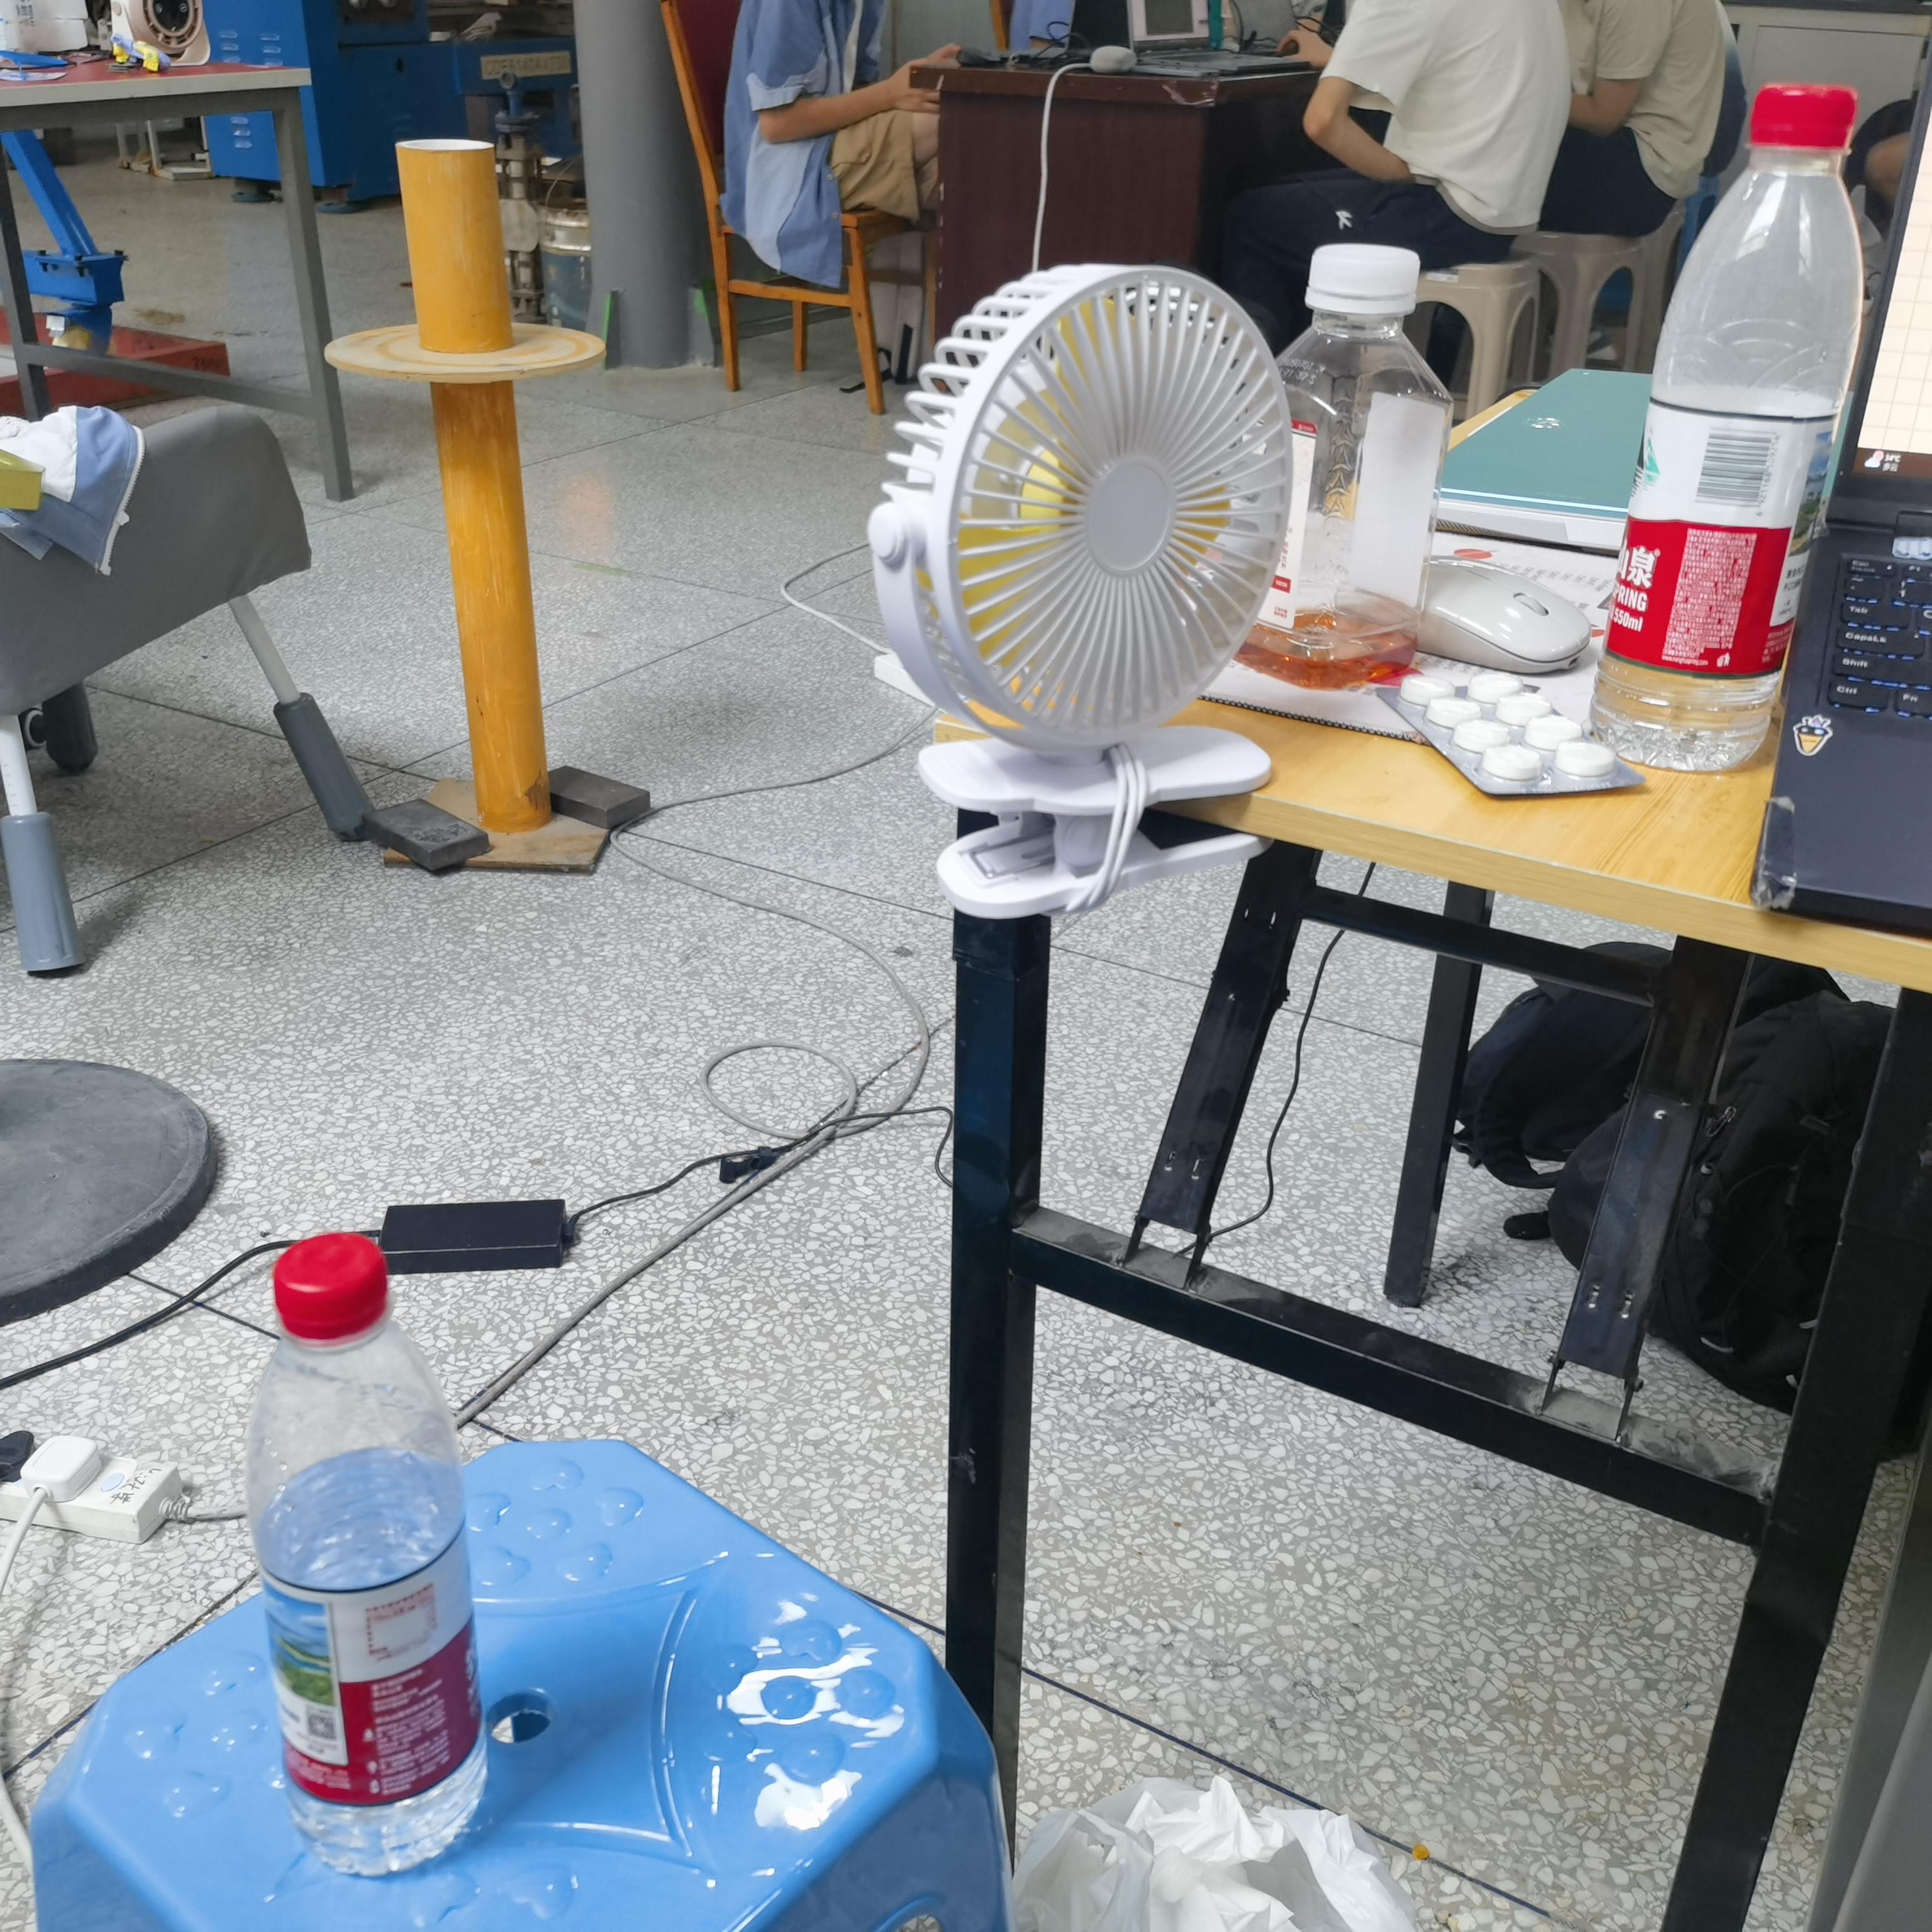bottle: (246, 1221, 499, 1890)
fan: (869, 258, 1284, 929)
